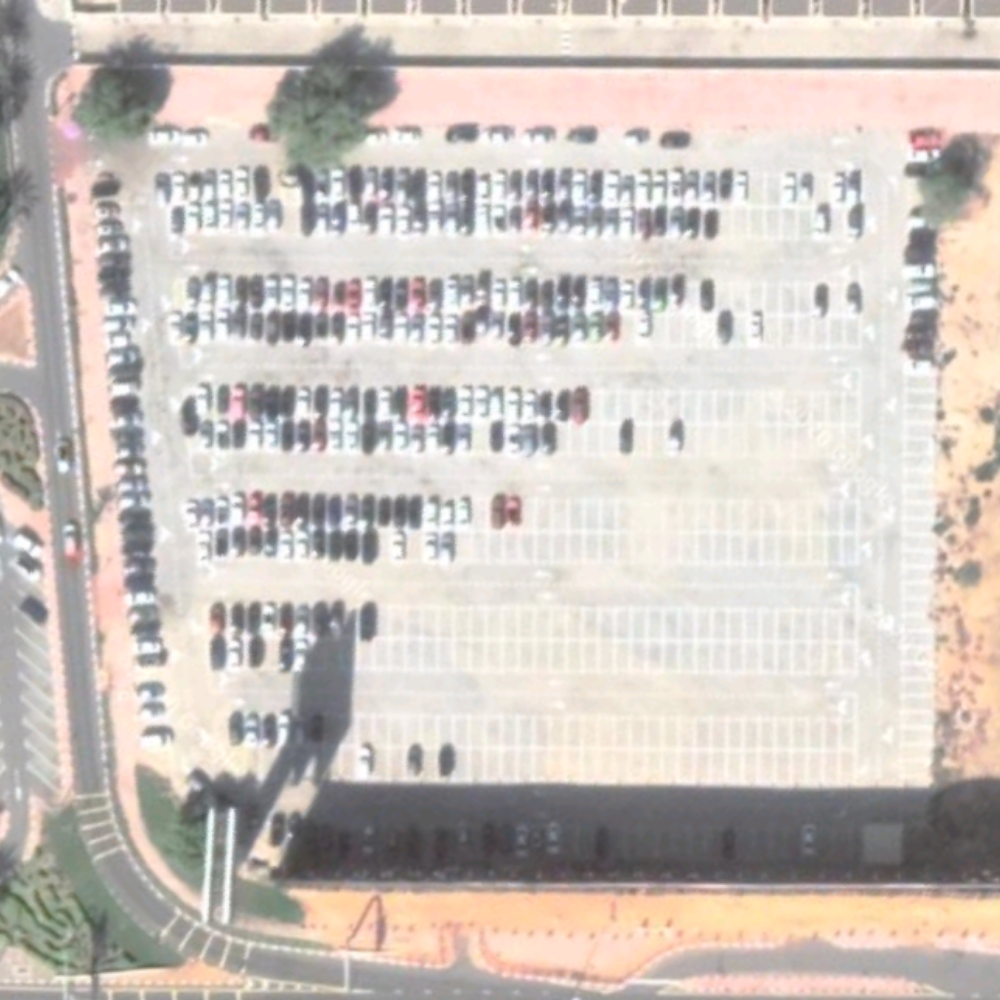parking: (90, 125, 925, 870)
